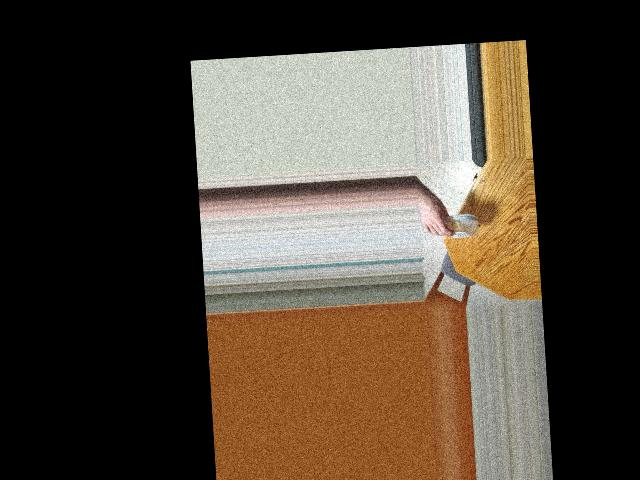cheese: (429, 205, 476, 247)
